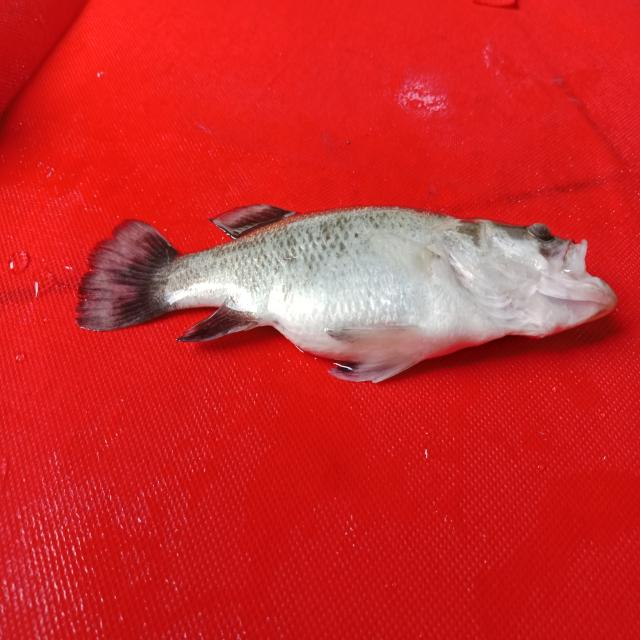ikan: (60, 161, 621, 401)
